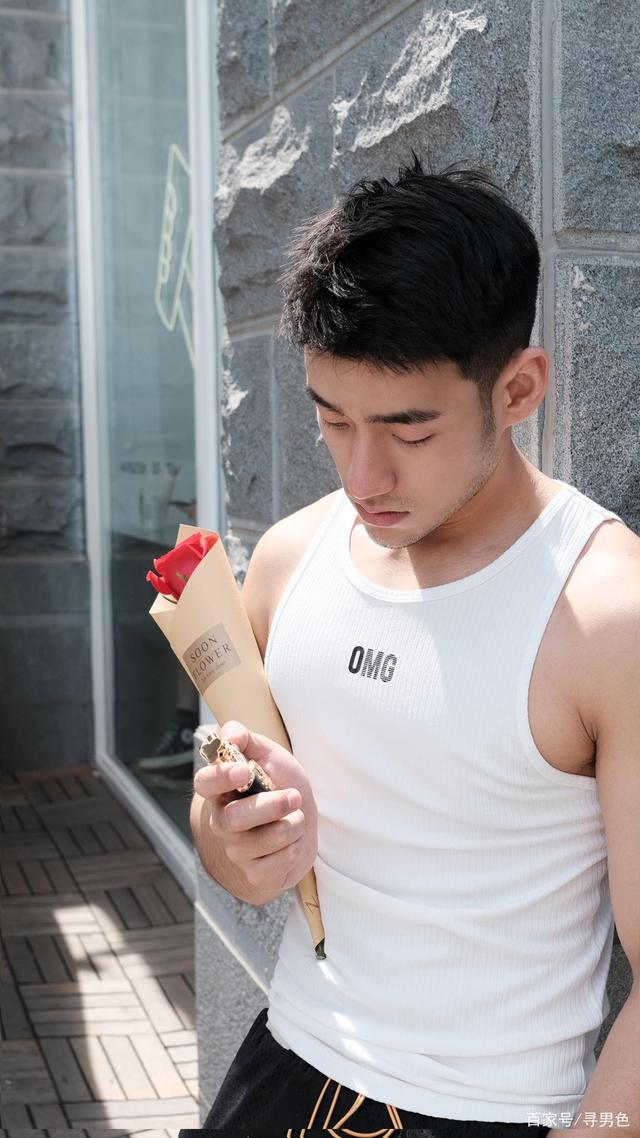person: (113, 166, 571, 1070)
